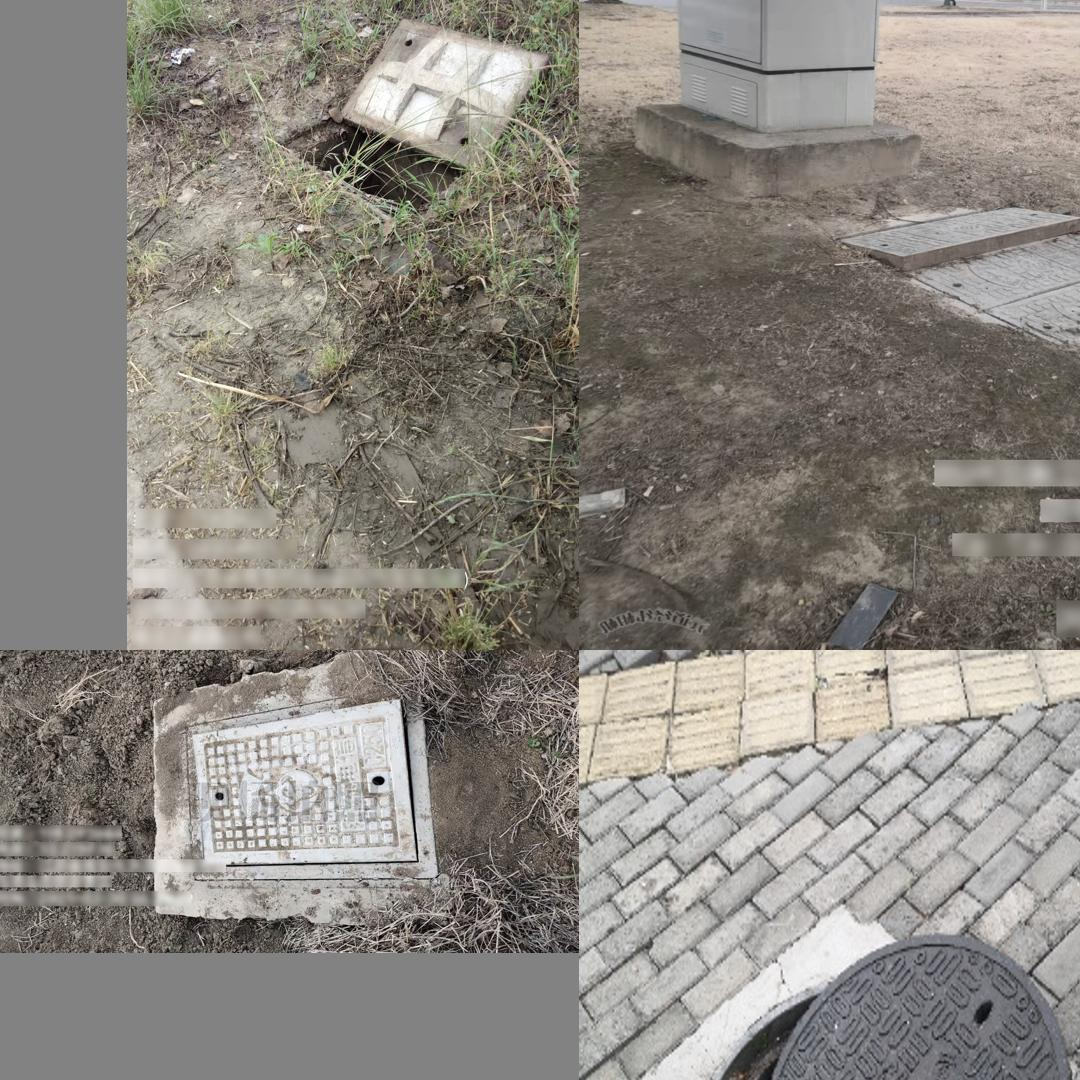uncovered: (680, 937, 1075, 1080), (273, 18, 550, 219), (182, 692, 456, 875), (838, 202, 1080, 359)
